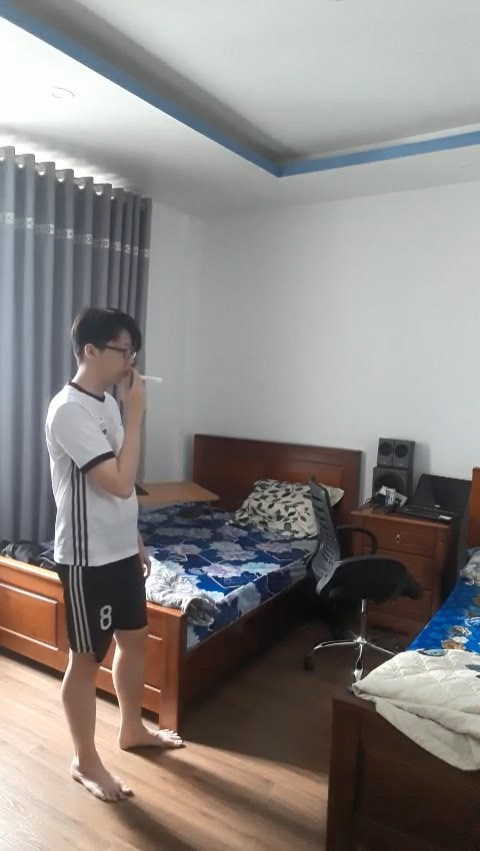cigarette: (140, 371, 165, 383)
person: (31, 288, 190, 817)
